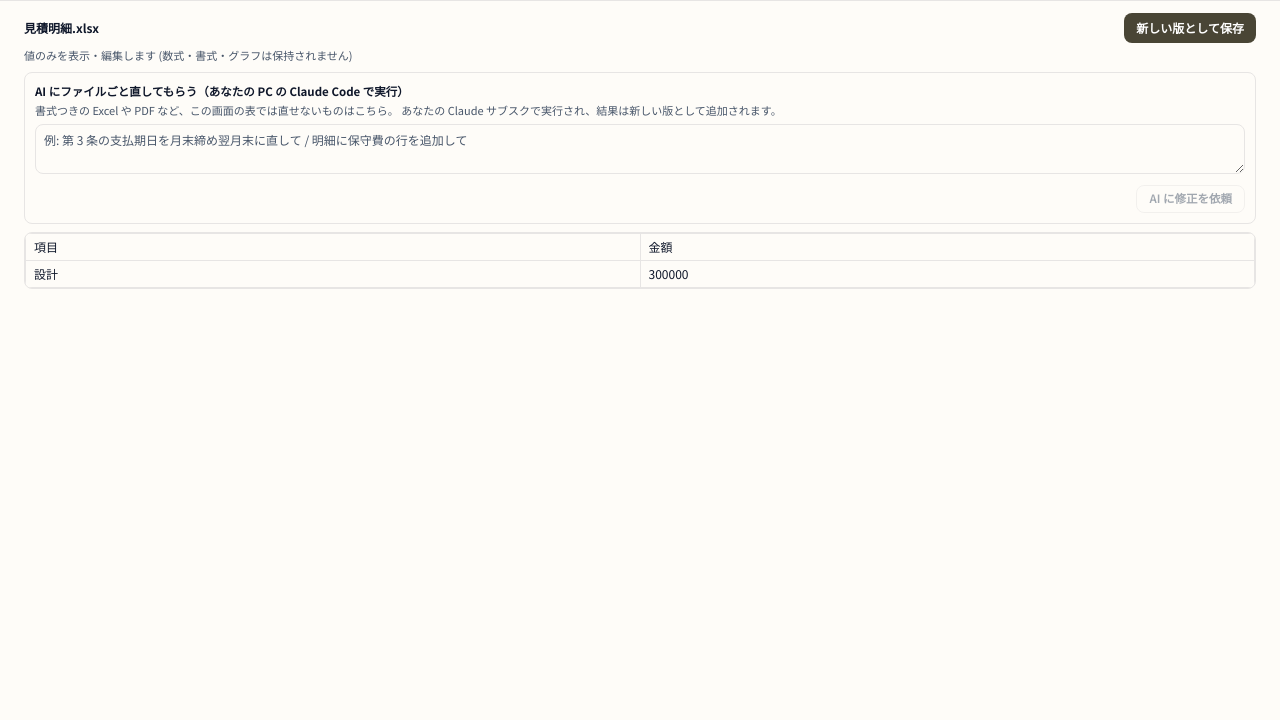
Scenario: SheetEditor (GAP-163) › Bridge 未接続は正直に断り、その場に接続フローを出す (GAP-166 / GAP-168)
Type "明細に保守費を追加" into the text box with placeholder "例: 第 3 条の支払期日を月末締め翌月末に直して / 明細に保守費の行を追加して" at coordinates (640, 149), box [35, 124, 1245, 174]
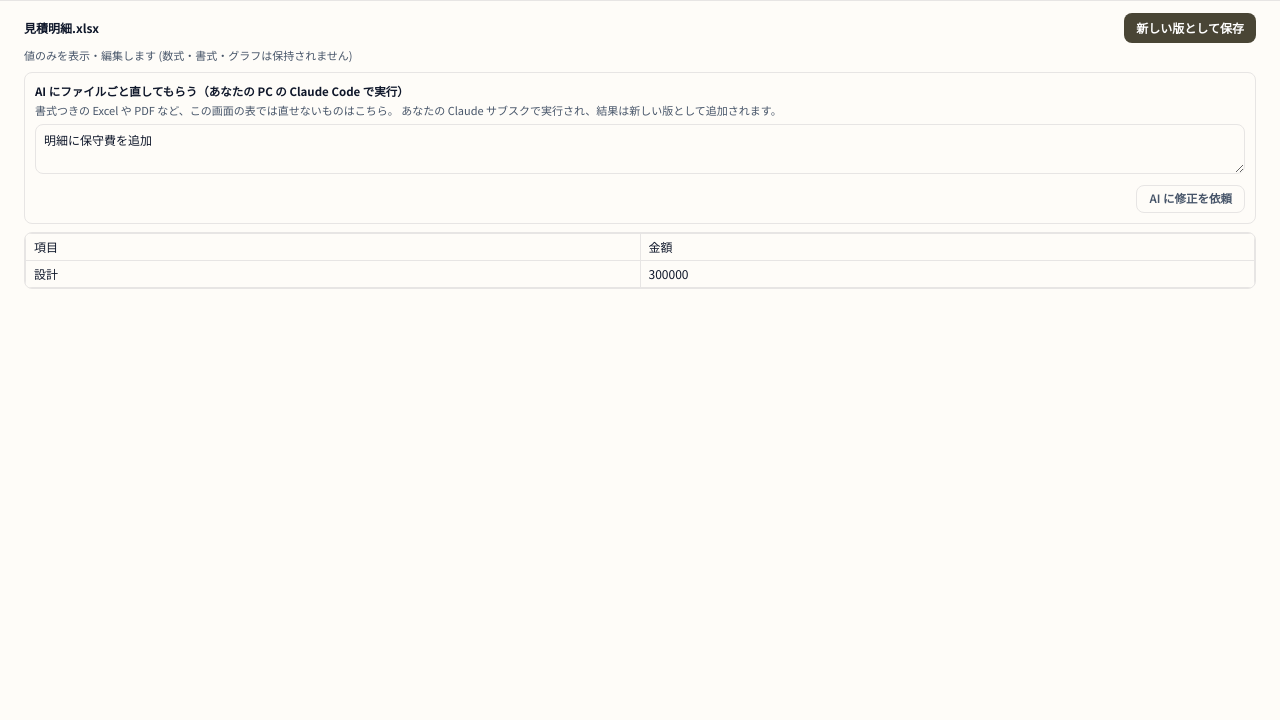
Click the button "AI に修正を依頼" at coordinates (1191, 199), box [1136, 185, 1245, 213]
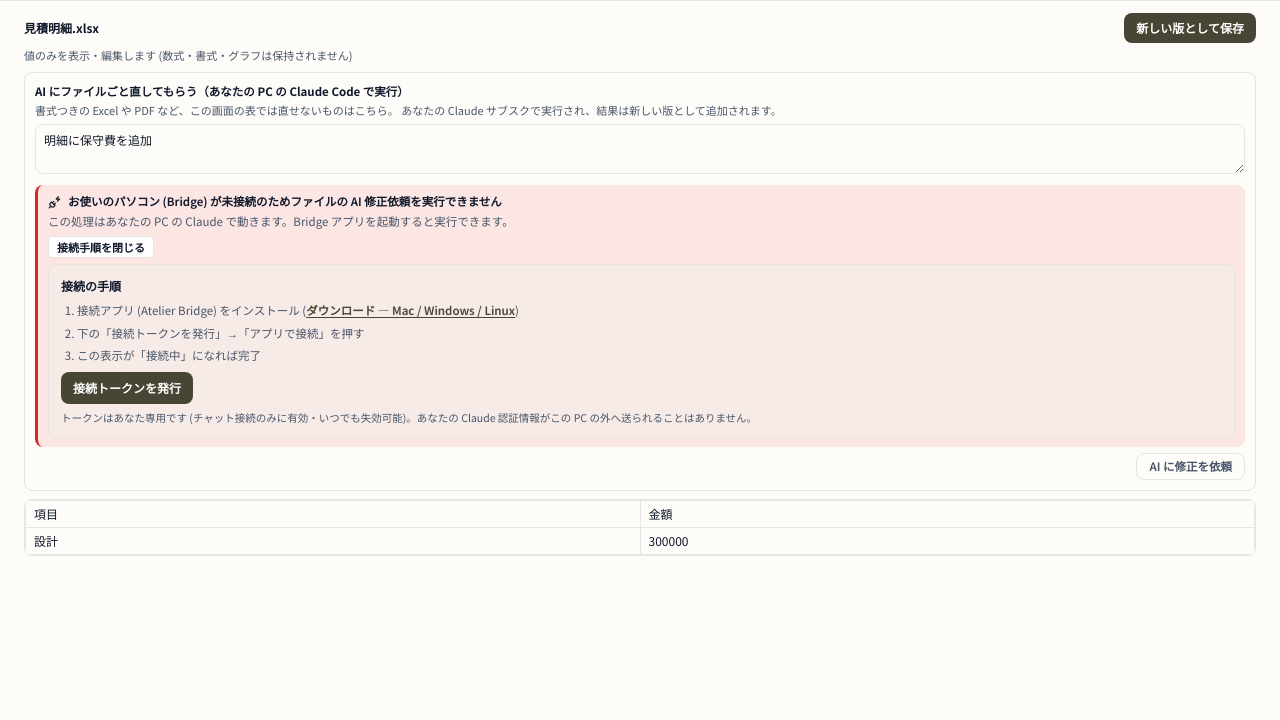
Check: the message shows "未接続のためファイルの AI 修正依頼を実行できません", box [35, 185, 1245, 447]
Check: the button "接続トークンを発行" is shown, box [61, 372, 193, 404]
